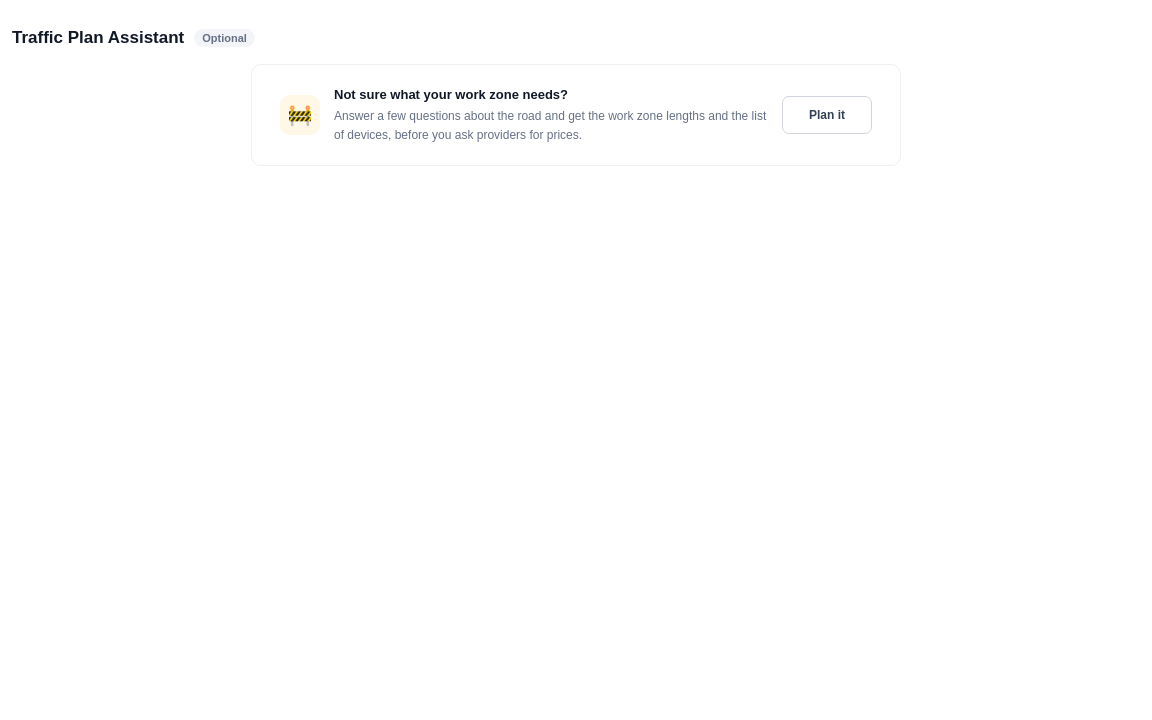
it: AiTrafficPlan › الخطة تختفي لما يقفل النموذج
Click the button "Plan it".
click(827, 115)  # box [782,96,872,134]
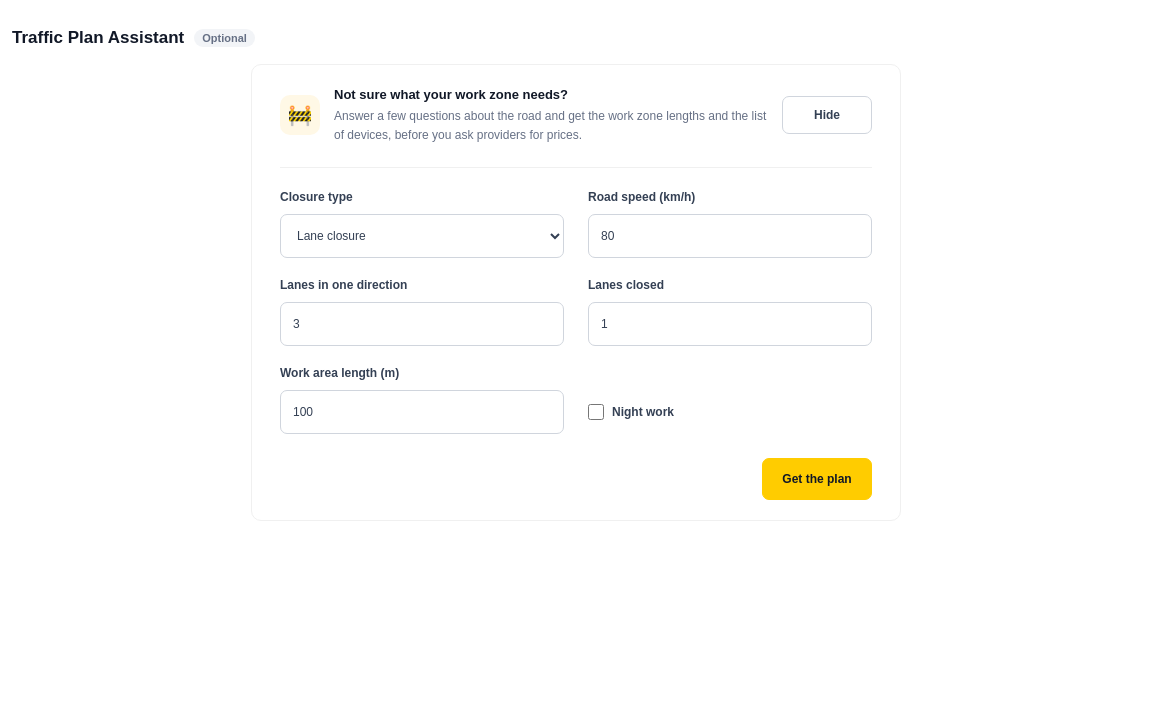
Click the button "Get the plan".
click(817, 479)  # box [762,458,872,500]
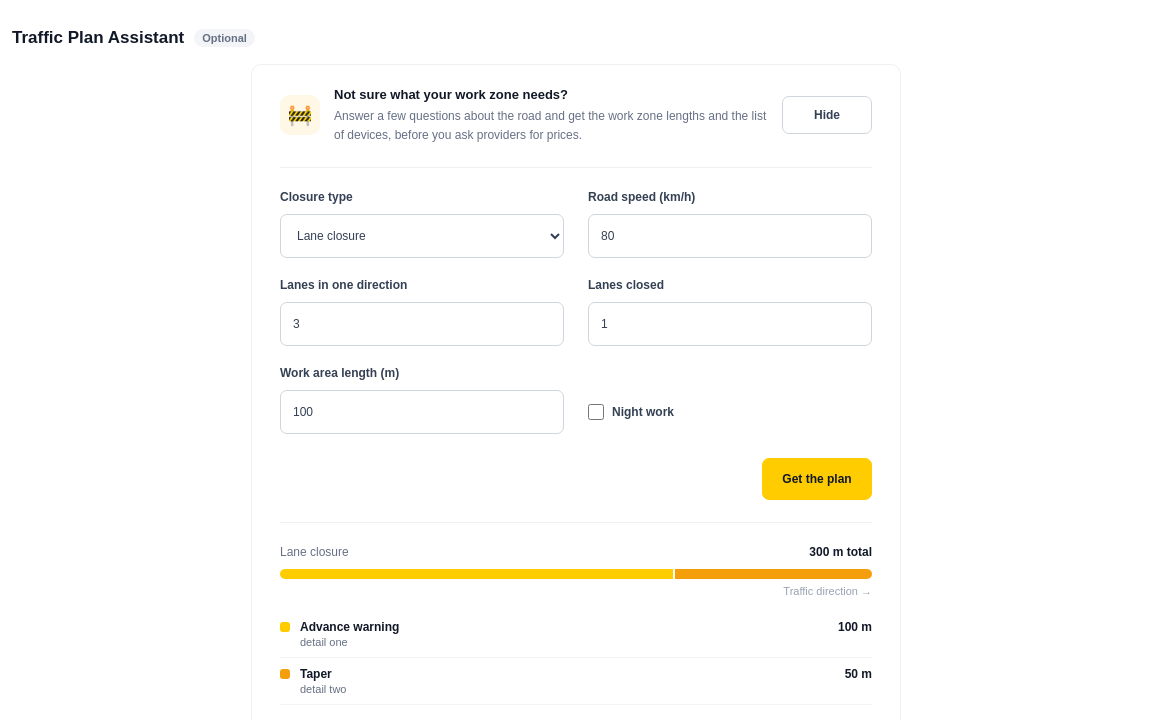
Click the button "Hide".
click(827, 115)  # box [782,96,872,134]
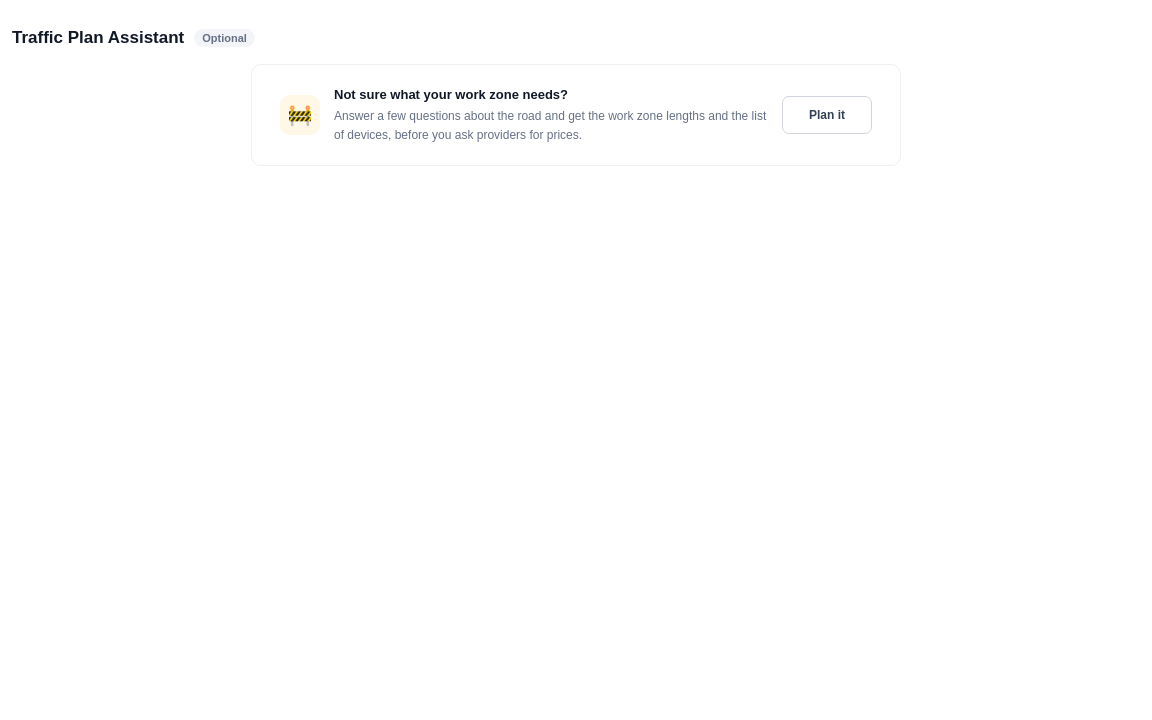
Check: the text "300 m total" is gone
